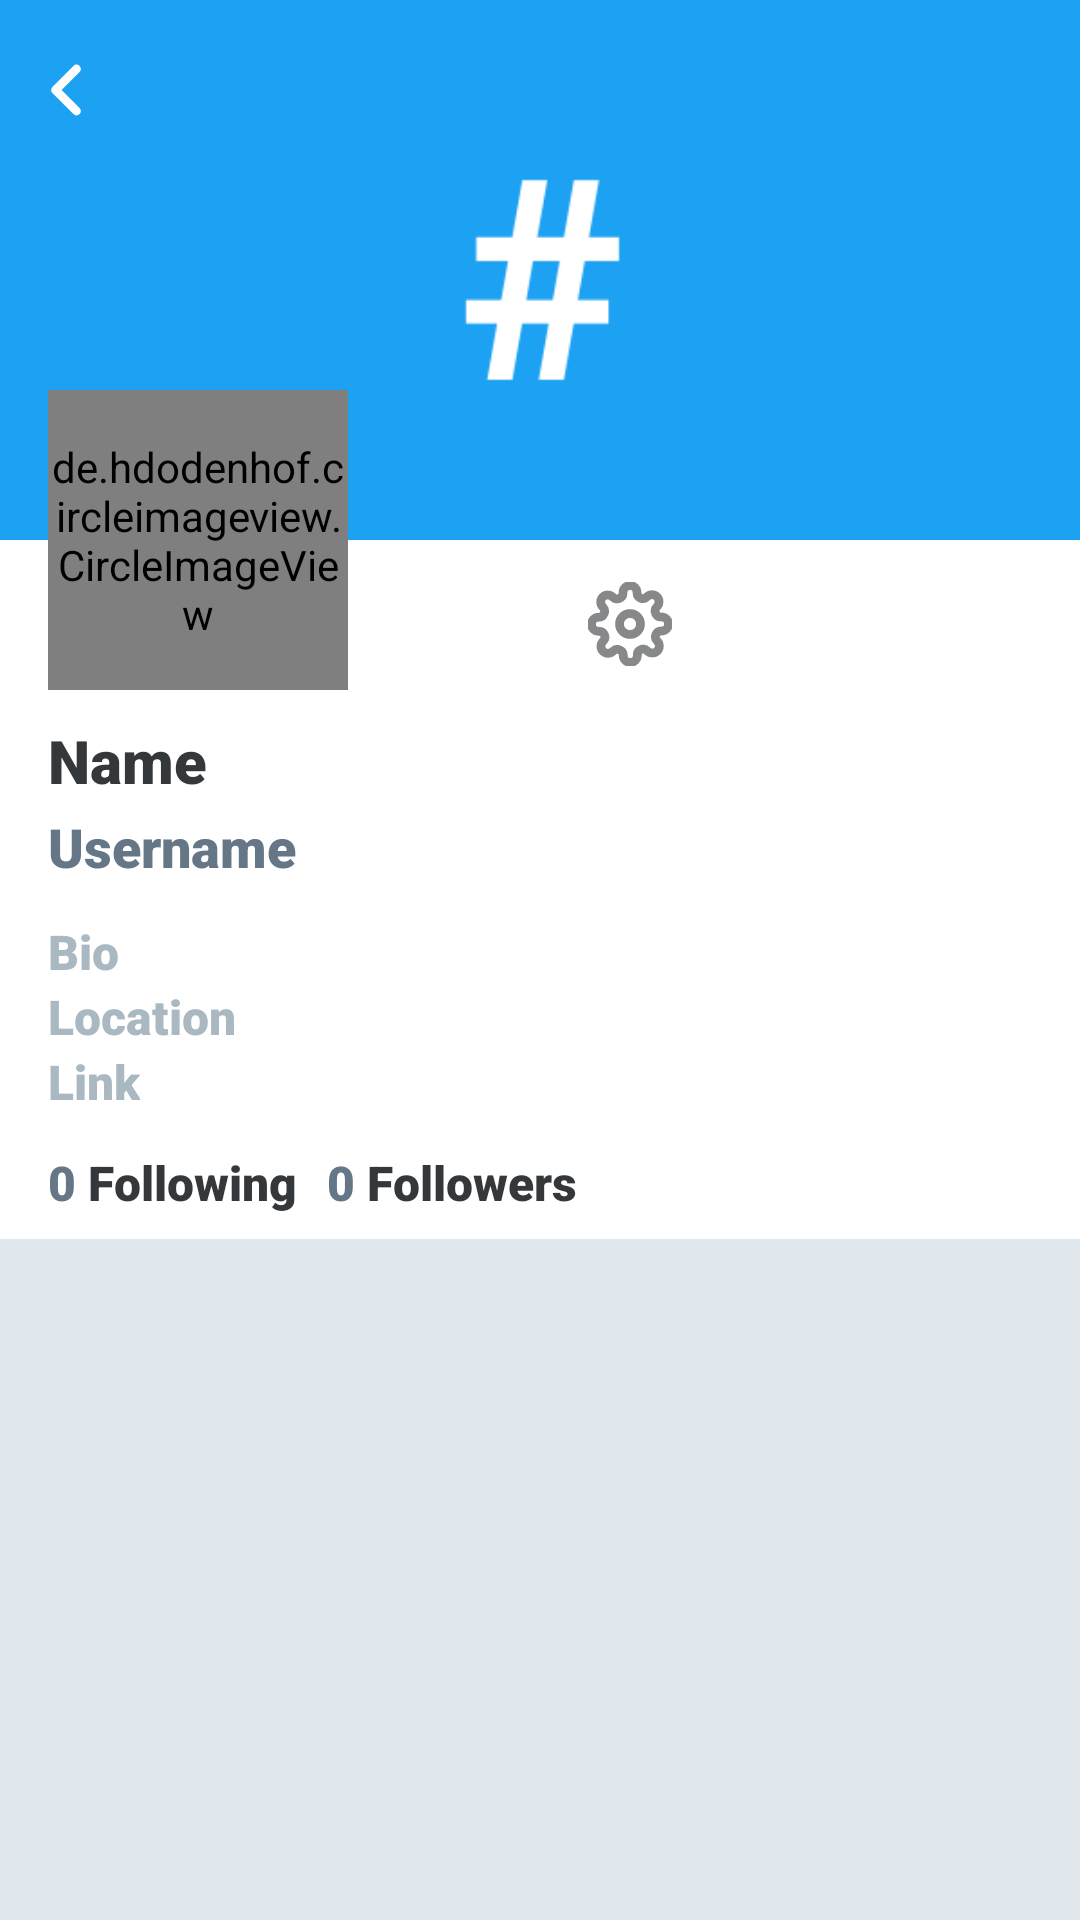

Screen size 1080x1920. Icon name, then its center in pixels as (x,y):
back: (66,90)
settings: (630,624)
